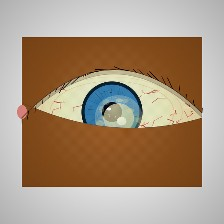corneal_ulcer: (94, 98, 144, 138)
